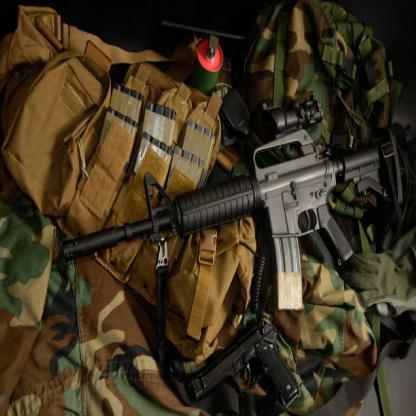Grenade: (197, 32, 226, 94)
Gun: (62, 90, 416, 312)
Pistol: (184, 315, 302, 409)
